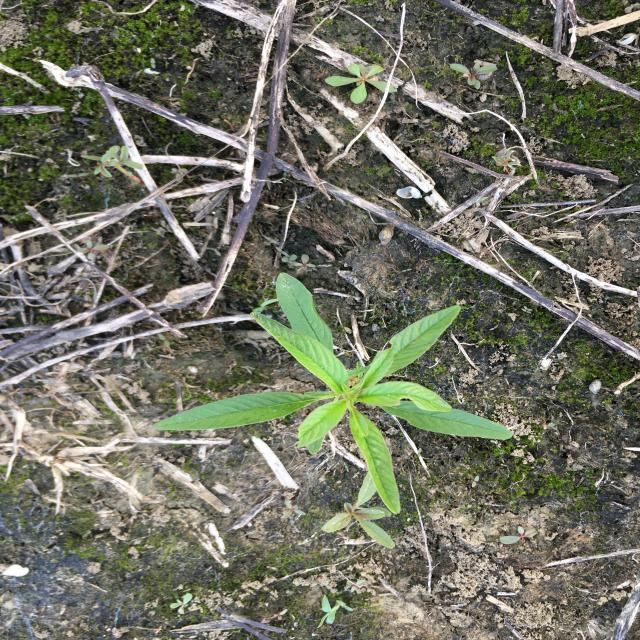Carpetweed: (324, 56, 401, 107)
Waterhemp: (150, 270, 514, 516)
